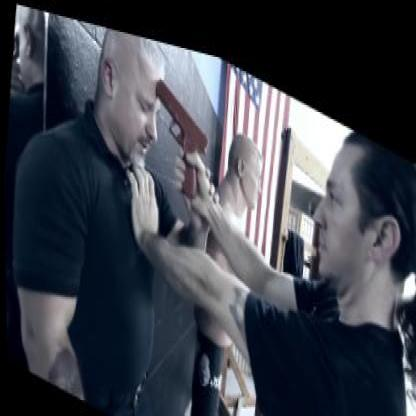pistol: (146, 63, 212, 197)
